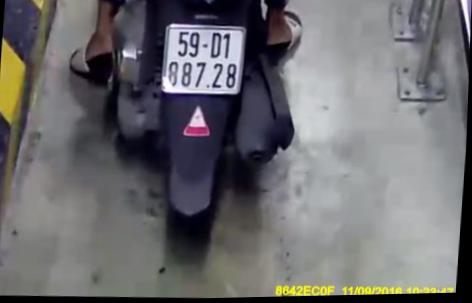LP: (164, 24, 247, 98)
